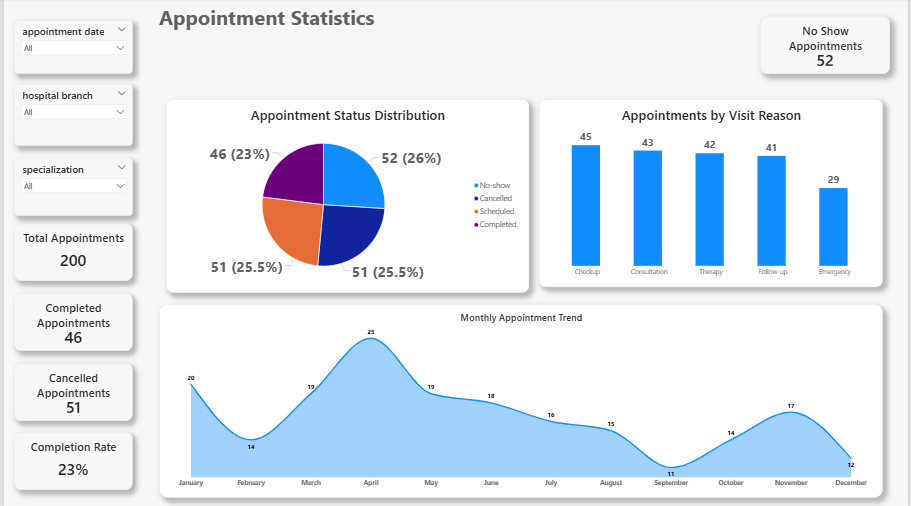

The page's visual inventory and layout, read from the dashboard file:
{"tool":"powerbi","page":{"name":"Appointment Analysis","canvas":[1920,1080],"ordinal":3},"visuals":[{"type":"card","title":"Total Appointments","fields":{"Values":["Count(appointments1.appointment_id)"]},"box":[21.4,479.4,251.6,123.4],"z":0},{"type":"card","title":"Completed Appointments","fields":{"Values":["appointments1.Completed Appointments"]},"box":[21.4,626.6,251.6,123.4],"z":1000},{"type":"card","title":"Cancelled Appointments","fields":{"Values":["appointments1.Cancelled Appointments"]},"box":[21.4,776.1,251.6,123.4],"z":2000},{"type":"card","title":"Completion Rate","fields":{"Values":["appointments1.Appointment Completion Rate Display"]},"box":[21.4,923.2,251.6,123.4],"z":3000},{"type":"pieChart","title":"Appointment Status Distribution","fields":{"Y":["CountNonNull(appointments1.appointment_id)"],"Category":["appointments1.status"]},"box":[344.4,214.7,771.7,412.4],"z":4000},{"type":"areaChart","title":"Monthly Appointment Trend","fields":{"Y":["CountNonNull(appointments1.appointment_id)"],"Category":["appointments1.appointment_date.Variation.Date Hierarchy.Month"]},"box":[329.5,650.6,1539.2,412.4],"z":5000},{"type":"columnChart","title":"Appointments by Visit Reason","fields":{"Category":["appointments1.reason_for_visit"],"Y":["CountNonNull(appointments1.appointment_id)"]},"box":[1137.4,214.7,731.3,399.7],"z":6000},{"type":"slicer","fields":{"Values":["doctors3.specialization"]},"box":[21.4,339.4,251.6,123.4],"z":7000},{"type":"slicer","fields":{"Values":["appointments1.appointment_date.Variation.Date Hierarchy.Month"]},"box":[21.4,47.5,251.6,113.9],"z":8000},{"type":"slicer","fields":{"Values":["doctors3.hospital_branch"]},"box":[21.4,182.7,251.6,130.5],"z":9000},{"type":"textbox","box":[329.5,10.6,482.6,72.3],"z":10000},{"type":"card","title":"No Show Appointments","fields":{"Values":["appointments1.No Show Appointments"]},"box":[1607.2,38.3,276.4,123.3],"z":11000}]}

Visuals, with their boxes in screenshot pixels (x1, y1, x2, y2), scaled from the page's 1920x1080 canvas onto the 911x506 screenshot:
"Total Appointments" card: crop(10, 225, 130, 282)
"Completed Appointments" card: crop(10, 294, 130, 351)
"Cancelled Appointments" card: crop(10, 364, 130, 421)
"Completion Rate" card: crop(10, 433, 130, 490)
"Appointment Status Distribution" pieChart: crop(163, 101, 530, 294)
"Monthly Appointment Trend" areaChart: crop(156, 305, 887, 498)
"Appointments by Visit Reason" columnChart: crop(540, 101, 887, 288)
slicer - doctors3.specialization: crop(10, 159, 130, 217)
slicer - appointments1.appointment_date.Variation.Date Hierarchy.Month: crop(10, 22, 130, 76)
slicer - doctors3.hospital_branch: crop(10, 86, 130, 147)
textbox: crop(156, 5, 385, 39)
"No Show Appointments" card: crop(763, 18, 894, 76)
